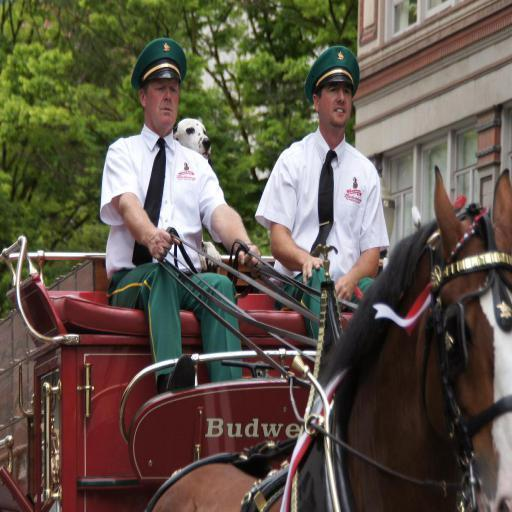horse: (143, 164, 512, 512)
